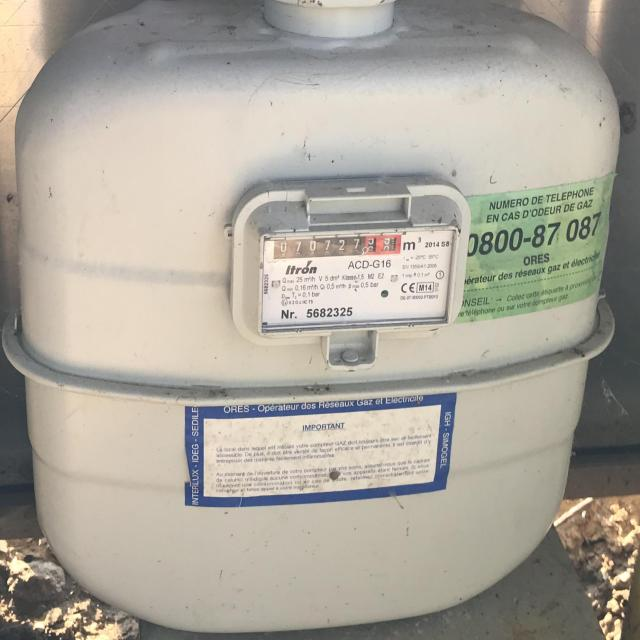gaz_meter: (263, 228, 454, 334)
indication: (273, 233, 400, 259)
